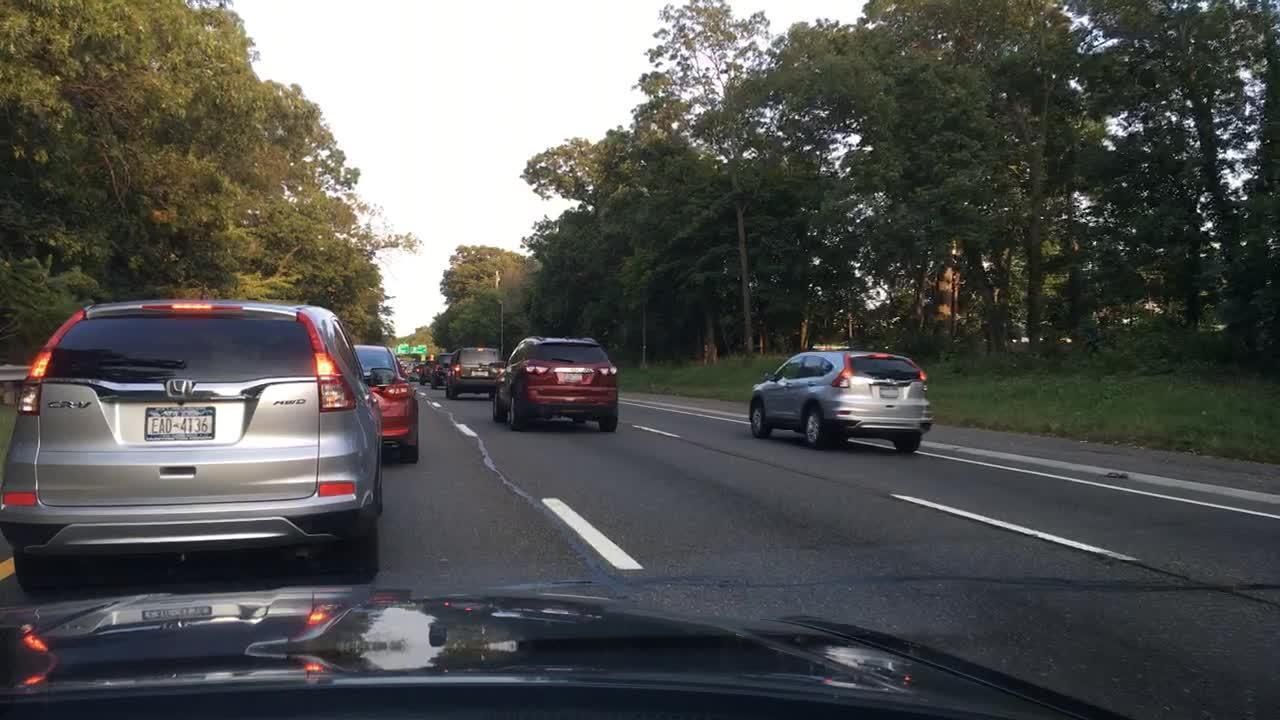Honda: (161, 374, 197, 405)
